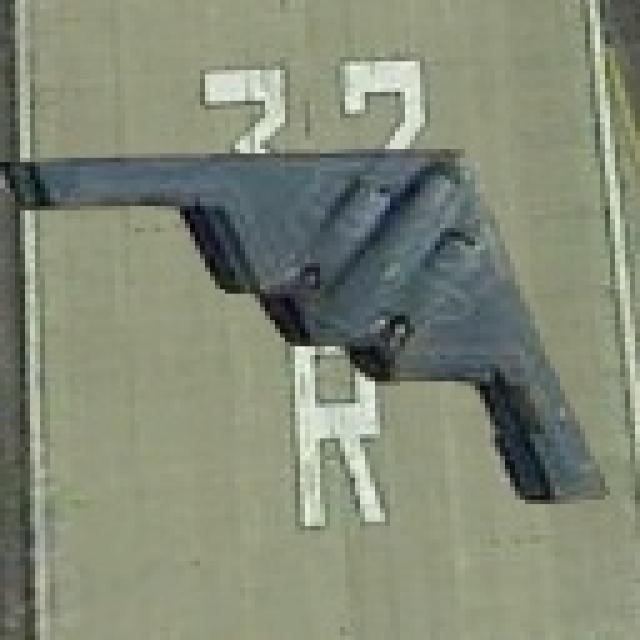B-2_TopDown: (0, 140, 610, 530)
